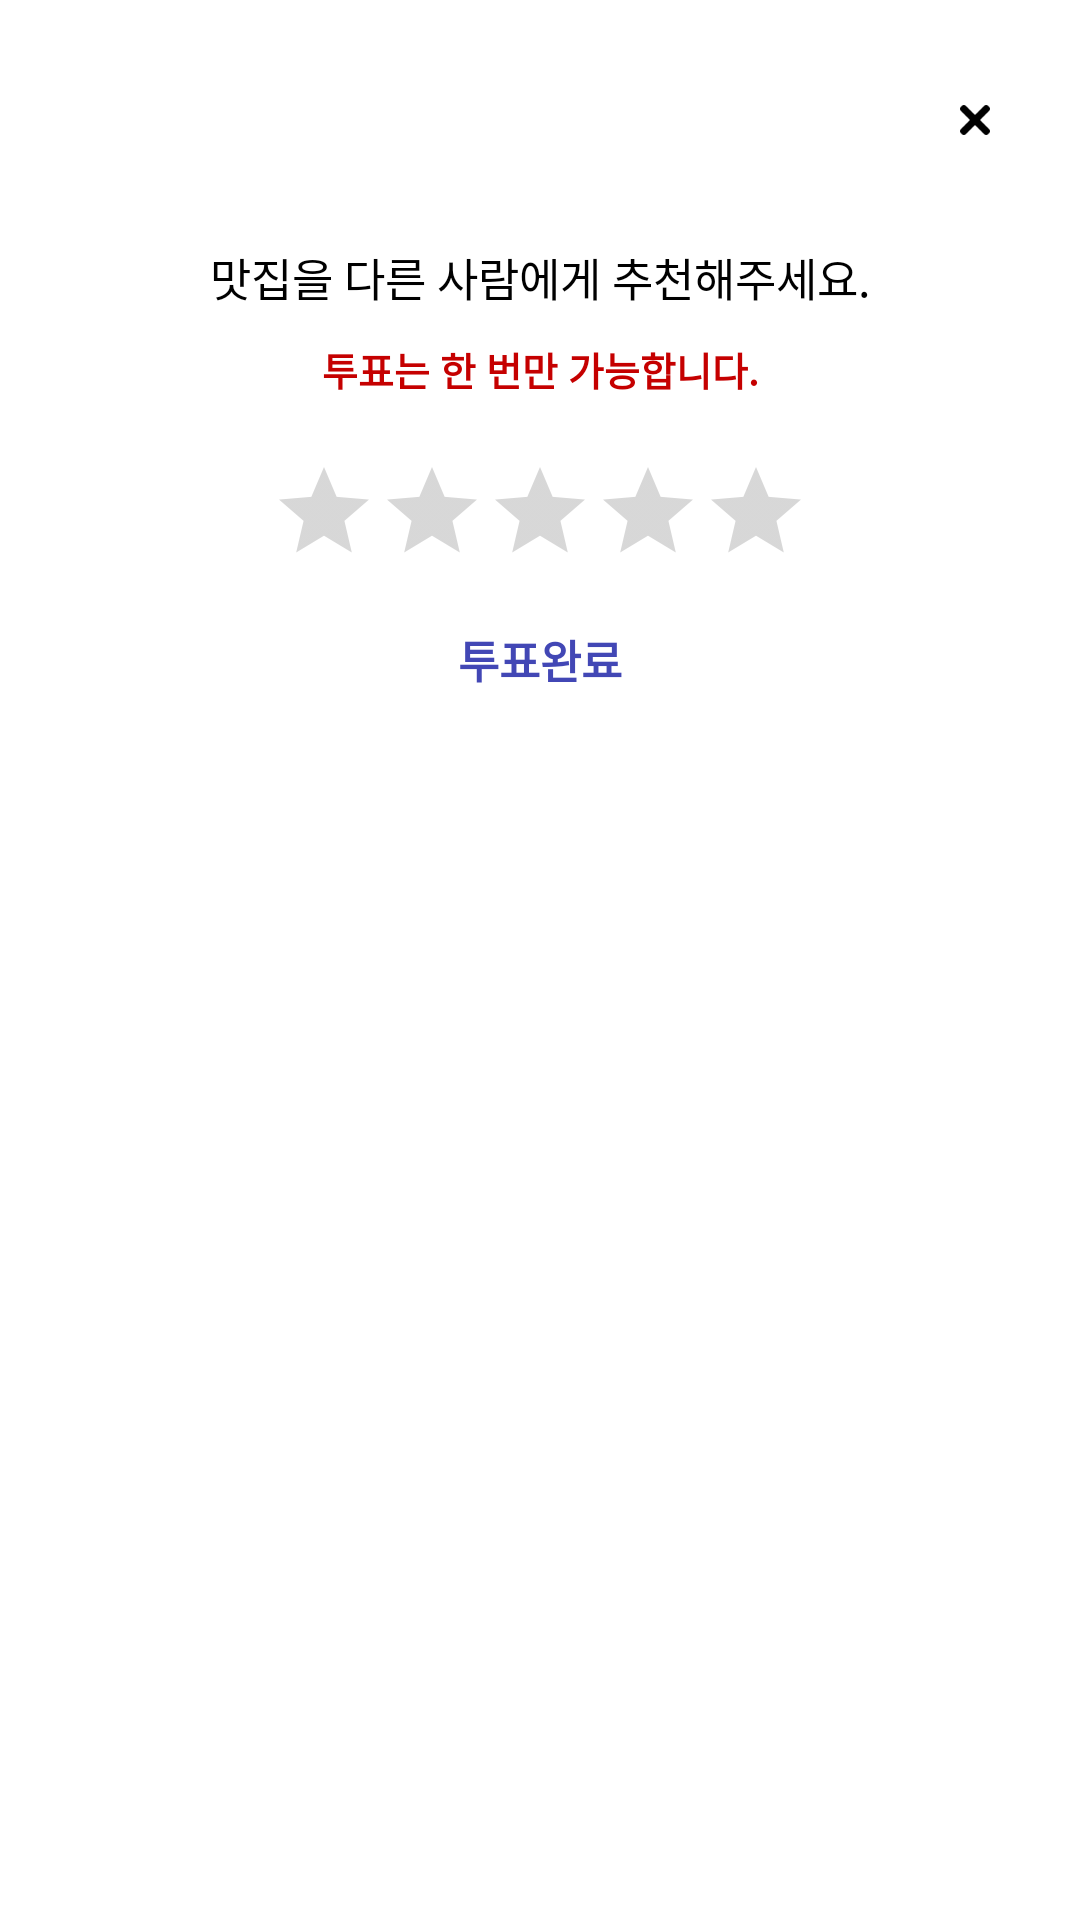

Icon bounding boxes for this 1080×1920 phone screenshot, format detection(x1, y1, x2, y2):
cancel: detection(960, 105, 990, 135)
